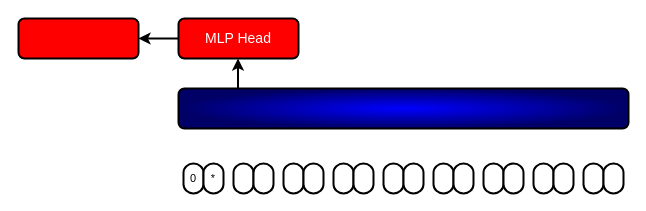
Image size: 646x211. Some labels were removed from this diagram. The shapes that lost their labels are listed below. From the top down, each one's box as (x1, y1, x2, y2) in pixels, then its label:
(17, 17, 139, 59): Class
(177, 87, 629, 129): Transformer Encoder
